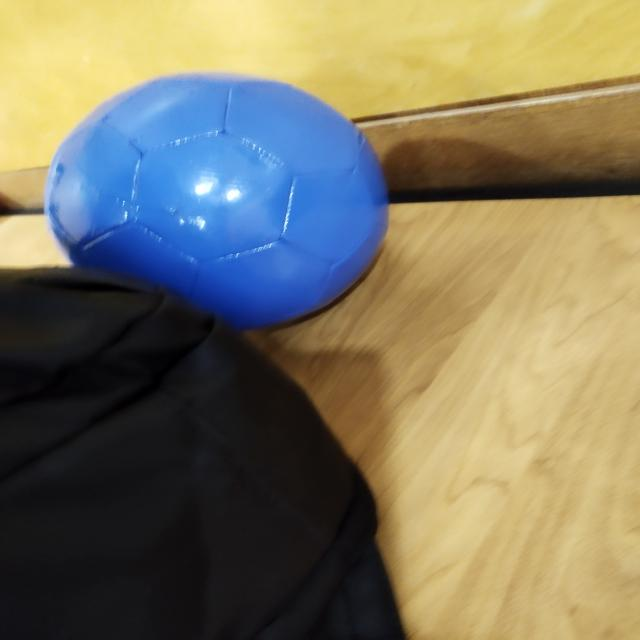blue_ball: (56, 74, 391, 334)
